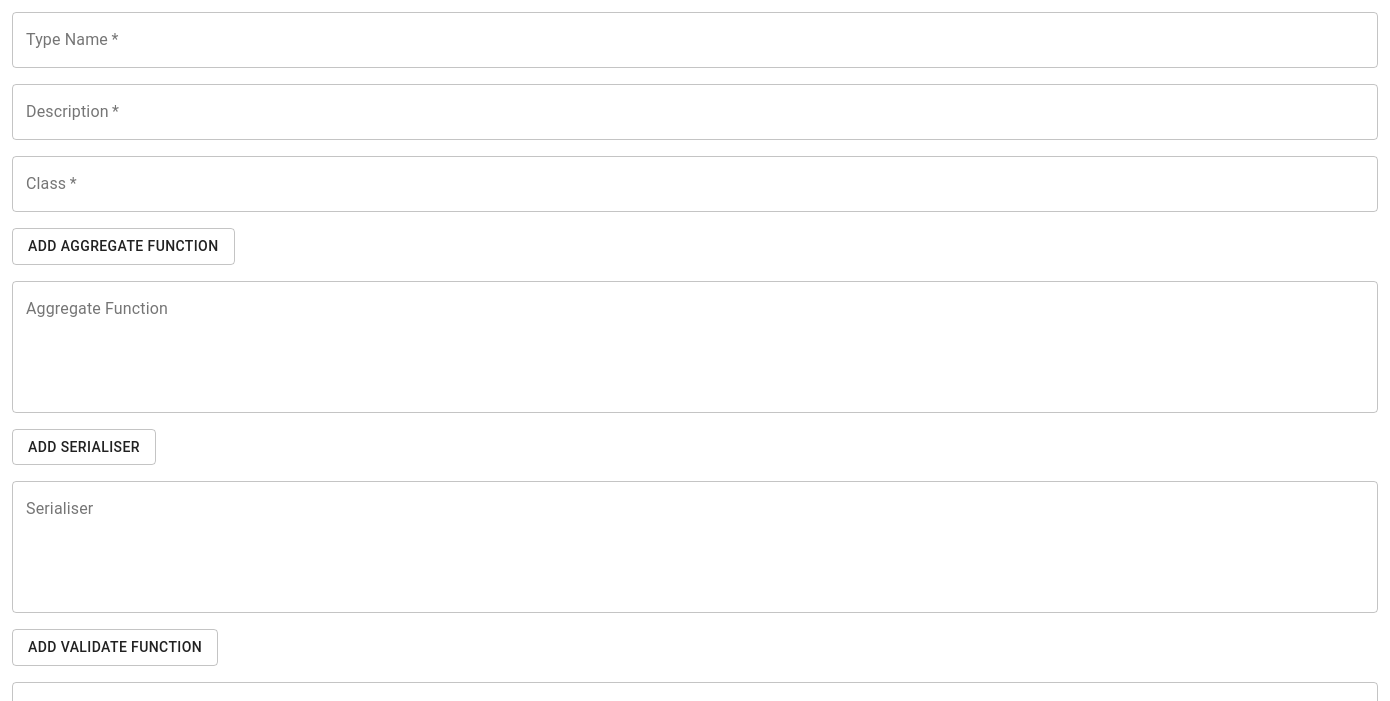
Test: Add Type UI Component › Add Type inputs › should display error message when invalid type class entered
The width and height of the screenshot is (1390, 701).
Type "Type class 1" into the field with id "type-class-input" at (695,184), box left=12, top=156, right=1378, bottom=212
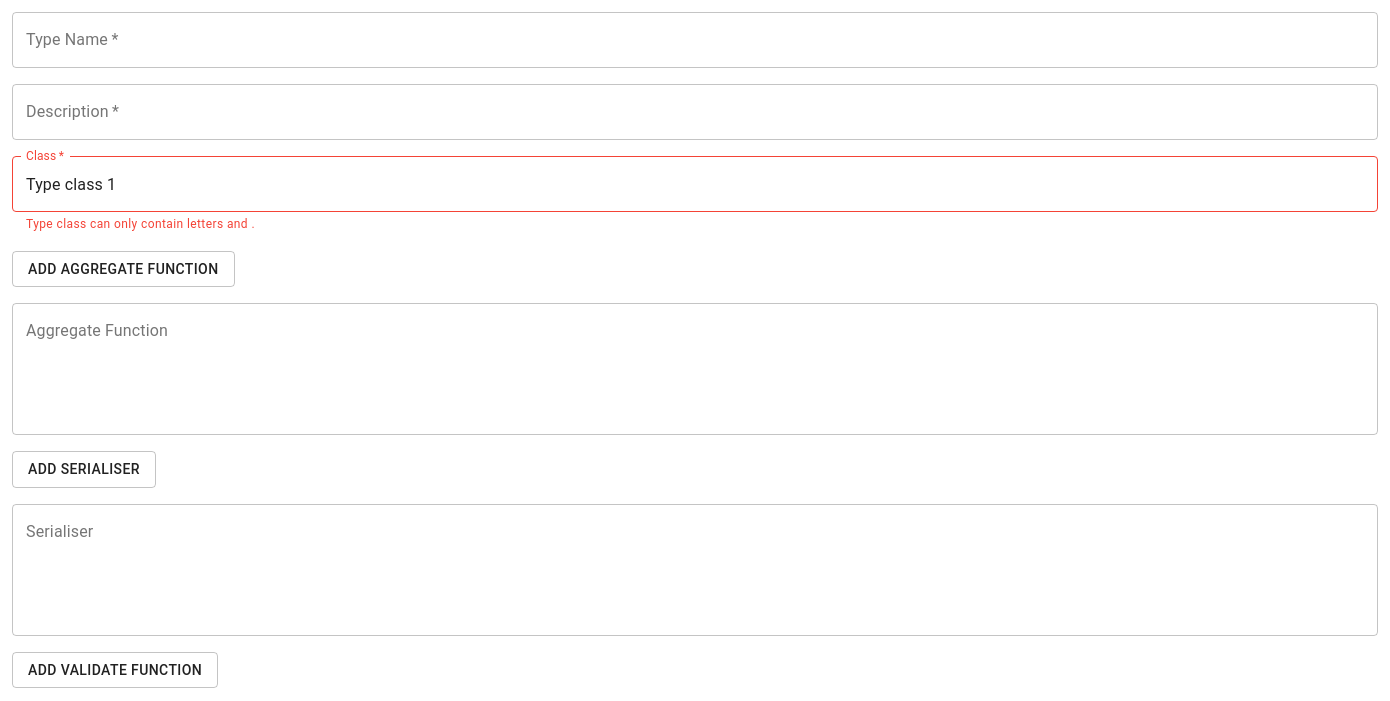
Expected: the text with id "type-class-input-helper-text" reads "Type class can only contain letters and .", left=26, top=217, right=255, bottom=231
